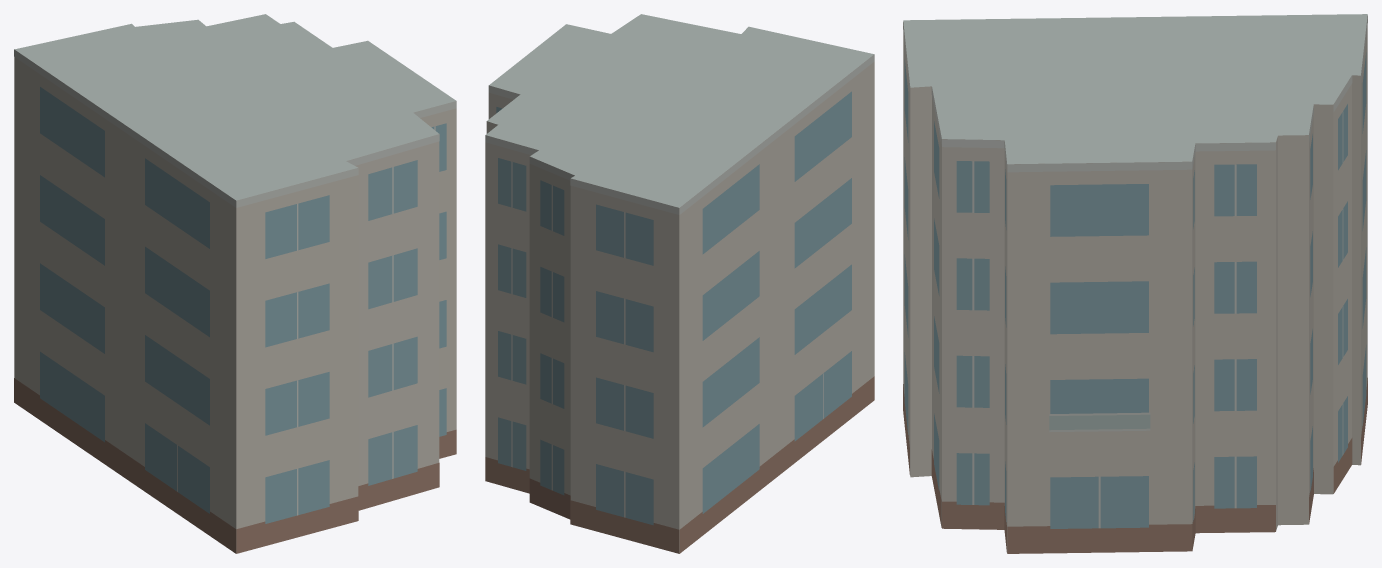
The model's file is survey-upis-32718340.glb.
The picture shows the model from 3 angles, left to right: view 1: azimuth 30°, elevation 25°; view 2: azimuth 150°, elevation 25°; view 3: azimuth 270°, elevation 25°; orthographic projection. The views are drawn at different scales.
Visible parts, largest first — view 1: survey-upis-32718340.tmp; view 2: survey-upis-32718340.tmp; view 3: survey-upis-32718340.tmp.
Part boxes in pixels (left/top/right/bottom): survey-upis-32718340.tmp: left=14, top=14, right=456, bottom=553; survey-upis-32718340.tmp: left=485, top=14, right=874, bottom=553; survey-upis-32718340.tmp: left=903, top=14, right=1367, bottom=553.
Size of the model in its own units: 9.71 by 11.73 by 12.69.
